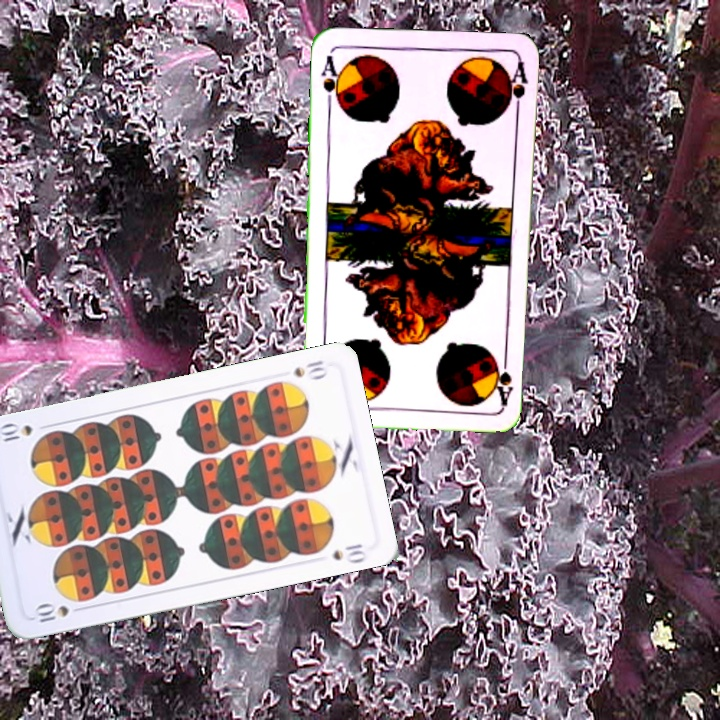S10: (30, 600, 88, 625), (288, 356, 330, 382)
SA: (317, 51, 344, 111), (492, 348, 516, 407)
